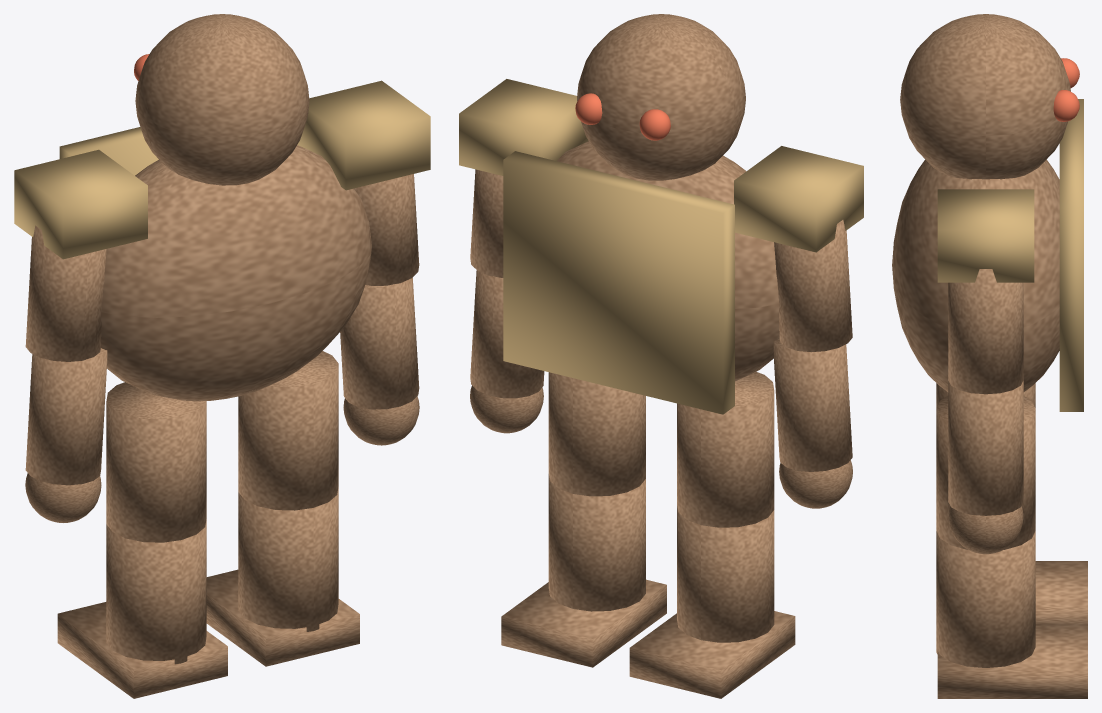
Rendered from hobgoblin.glb.
3 views of the same model, side by side, from view 1: azimuth 30°, elevation 25°; view 2: azimuth 150°, elevation 25°; view 3: azimuth 270°, elevation 25° (orthographic). The views are drawn at different scales.
Parts seen in each view (by area): view 1: Torso, Head, ThighL, ThighR, ShinL, ShinR, Pauldron, Pauldron.001, ForearmL, ForearmR, UpperArmL, FootL (+5 smaller); view 2: Chestplate, Head, ThighL, ShinL, ShinR, ThighR, Pauldron, ForearmL, Torso, Pauldron.001, FootL, FootR (+7 smaller); view 3: Head, Torso, ShinR, ForearmR, Pauldron.001, UpperArmR, FootR, Chestplate, ThighR, FootL, HandR, Eye.001 (+2 smaller).
Boxes of the visible parts, left/top/right/bottom form: Torso: left=101, top=145, right=371, bottom=401; Head: left=135, top=14, right=309, bottom=185; ThighL: left=106, top=382, right=206, bottom=542; ThighR: left=238, top=351, right=338, bottom=510; ShinL: left=106, top=519, right=206, bottom=664; ShinR: left=238, top=487, right=338, bottom=631; Pauldron: left=14, top=149, right=147, bottom=259; Pauldron.001: left=297, top=80, right=430, bottom=190; ForearmL: left=25, top=348, right=107, bottom=485; ForearmR: left=340, top=277, right=419, bottom=409; UpperArmL: left=25, top=225, right=106, bottom=361; FootL: left=57, top=602, right=227, bottom=698; Chestplate: left=503, top=151, right=734, bottom=414; Head: left=577, top=14, right=745, bottom=180; ThighL: left=677, top=371, right=774, bottom=527; ShinL: left=677, top=506, right=774, bottom=642; ShinR: left=548, top=474, right=645, bottom=611; ThighR: left=548, top=372, right=645, bottom=496; Pauldron: left=734, top=146, right=863, bottom=252; ForearmL: left=773, top=338, right=852, bottom=471; Torso: left=557, top=141, right=779, bottom=381; Pauldron.001: left=459, top=79, right=588, bottom=175; FootL: left=629, top=611, right=795, bottom=698; FootR: left=501, top=579, right=666, bottom=667; Head: left=900, top=14, right=1070, bottom=179; Torso: left=892, top=159, right=1059, bottom=392; ShinR: left=936, top=531, right=1035, bottom=667; ForearmR: left=948, top=381, right=1023, bottom=515; Pauldron.001: left=937, top=189, right=1034, bottom=282; UpperArmR: left=948, top=269, right=1023, bottom=394; FootR: left=937, top=624, right=1087, bottom=698; Chestplate: left=1059, top=99, right=1083, bottom=411; ThighR: left=936, top=396, right=1035, bottom=549; FootL: left=1035, top=561, right=1087, bottom=624; HandR: left=948, top=506, right=1023, bottom=554; Eye.001: left=1053, top=90, right=1079, bottom=121.
Size of the model in its own units: 0.6367 by 1 by 0.2852.
4 materials, 2 textured.
